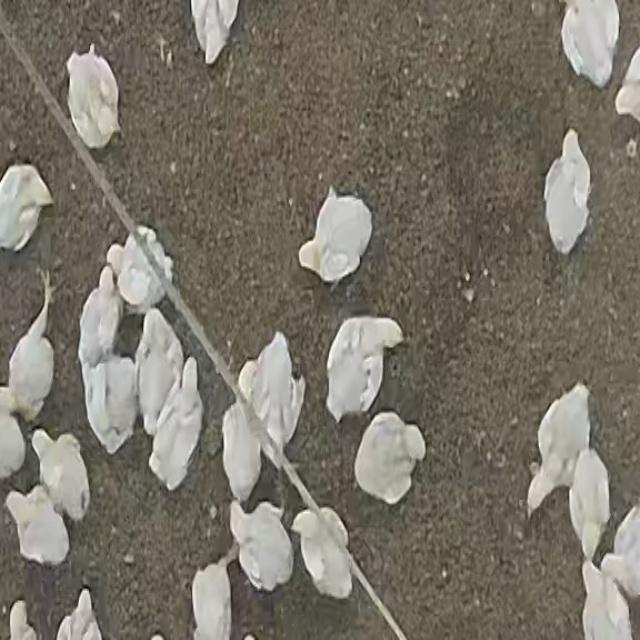chicken: (524, 385, 592, 517), (237, 332, 303, 466), (290, 182, 374, 286), (325, 316, 404, 422), (4, 270, 56, 422), (148, 355, 206, 491), (353, 413, 425, 506), (228, 499, 295, 595), (544, 126, 594, 254), (135, 311, 184, 440), (291, 504, 354, 600), (83, 349, 139, 457), (31, 428, 92, 522), (66, 45, 120, 149), (558, 0, 620, 88), (6, 485, 71, 567), (112, 228, 174, 310), (78, 263, 125, 369), (221, 393, 264, 504), (0, 164, 52, 253), (572, 457, 610, 556), (190, 561, 234, 640)
